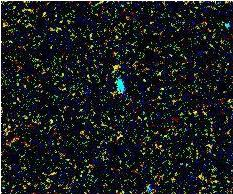star: (96, 50, 126, 80)
